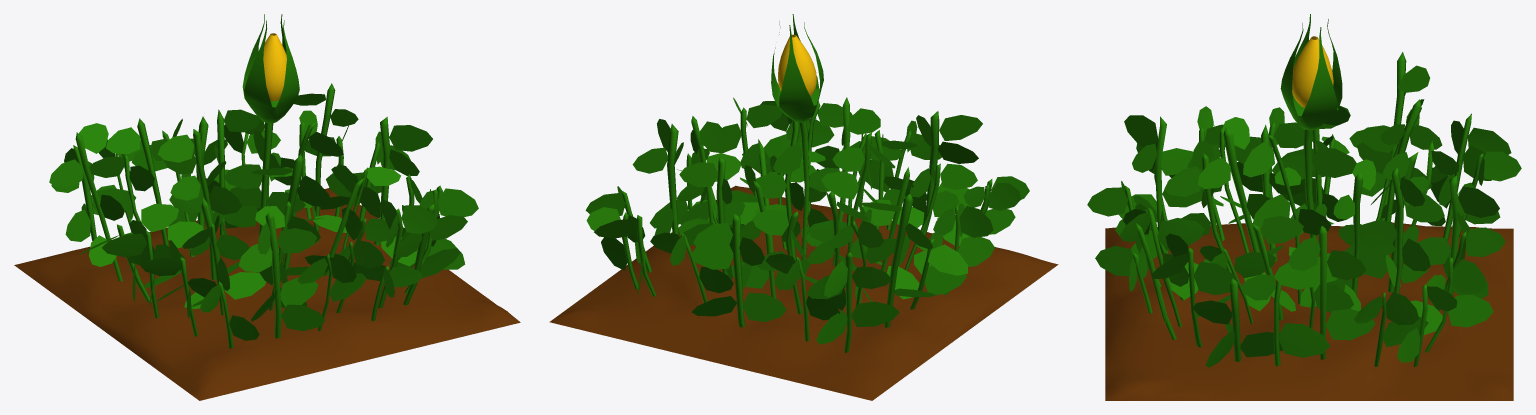
The model's file is yellow-rose-p2-leaf.glb.
3 renders of one model, left to right at view 1: azimuth 30°, elevation 25°; view 2: azimuth 150°, elevation 25°; view 3: azimuth 270°, elevation 25°, orthographic. The views are drawn at different scales.
Visible parts, largest first — view 1: 2_nft_out_of_bloom; view 2: 2_nft_out_of_bloom; view 3: 2_nft_out_of_bloom.
Part boxes in pixels (x1,y1,x2,y2): 2_nft_out_of_bloom: [14, 14, 520, 400]; 2_nft_out_of_bloom: [549, 14, 1058, 400]; 2_nft_out_of_bloom: [1087, 14, 1521, 400].
Size of the model in its own units: 0.751 by 0.5686 by 0.7455.
